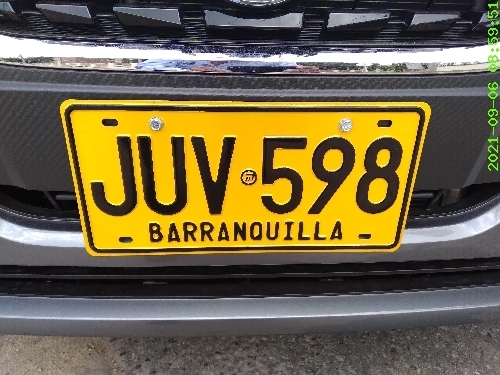number_plate: (63, 100, 428, 255)
